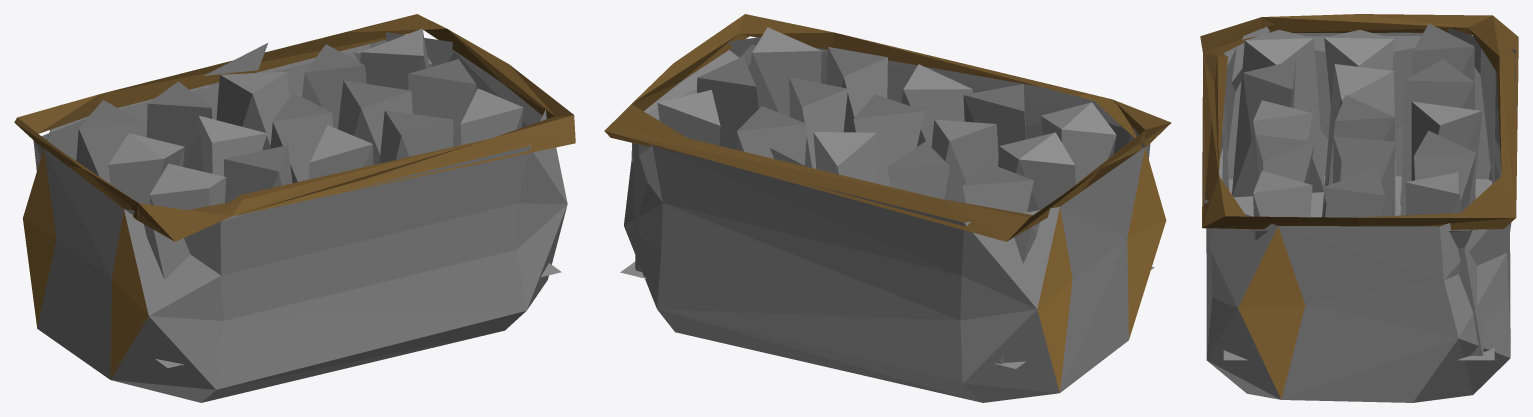
File: kit_container.glb
The picture shows the model from 3 angles, left to right: view 1: azimuth 30°, elevation 25°; view 2: azimuth 150°, elevation 25°; view 3: azimuth 270°, elevation 25°; orthographic projection. The views are drawn at different scales.
Parts seen in each view (by area): view 1: kit_container; view 2: kit_container; view 3: kit_container.
Boxes of the visible parts, x1=… form: kit_container: x1=14, y1=14, x2=575, y2=402; kit_container: x1=604, y1=14, x2=1171, y2=402; kit_container: x1=1200, y1=14, x2=1518, y2=402.
Bounding box in the file's own units: 1.19 × 0.5838 × 0.7818.
